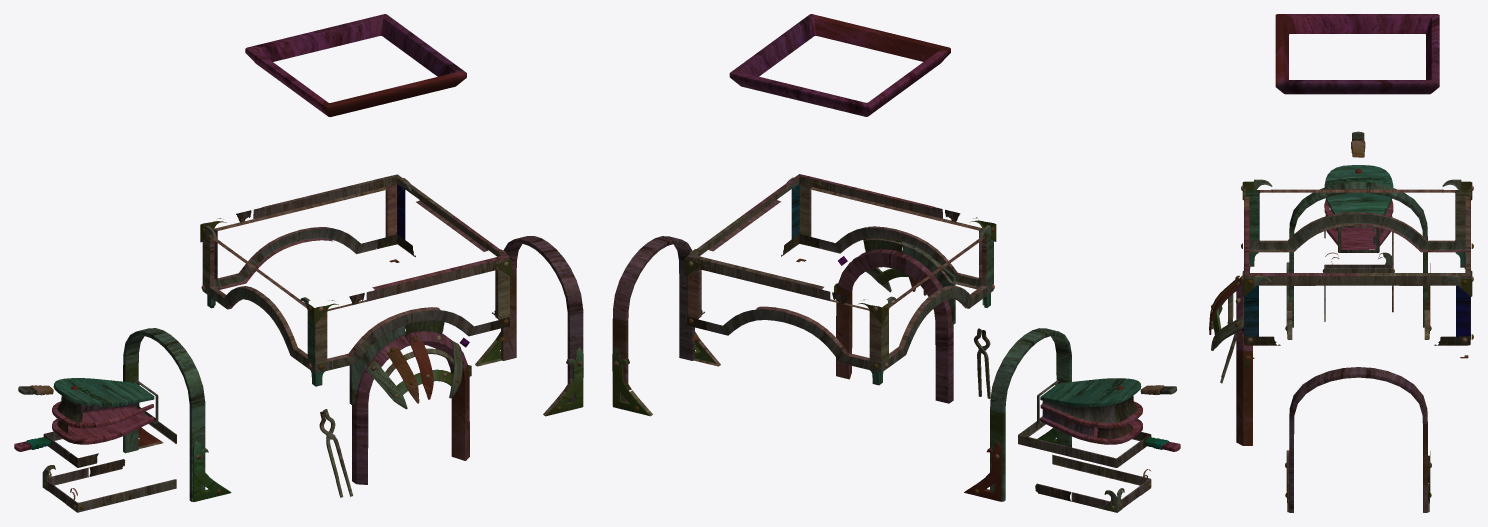
3 renders of one model, left to right at view 1: azimuth 30°, elevation 25°; view 2: azimuth 150°, elevation 25°; view 3: azimuth 270°, elevation 25°, orthographic.
Visible parts, largest first — view 1: SM_Fallen_Log_01_LOD0; view 2: SM_Fallen_Log_01_LOD0; view 3: SM_Fallen_Log_01_LOD0.
Boxes of the visible parts, box(x1,y1,x2,y2) form: SM_Fallen_Log_01_LOD0: box(14, 14, 583, 512); SM_Fallen_Log_01_LOD0: box(612, 14, 1180, 512); SM_Fallen_Log_01_LOD0: box(1209, 14, 1473, 512).
Size of the model in its own units: 4.5 by 2.97 by 1.92.
